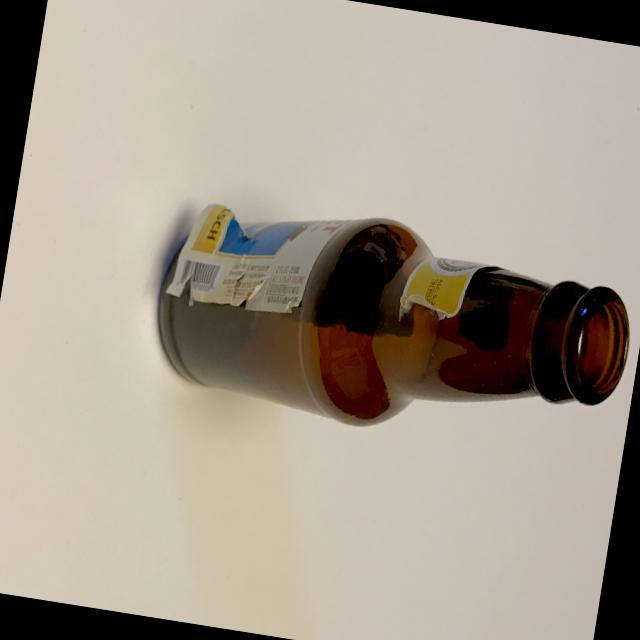Glass: (133, 180, 640, 476)
